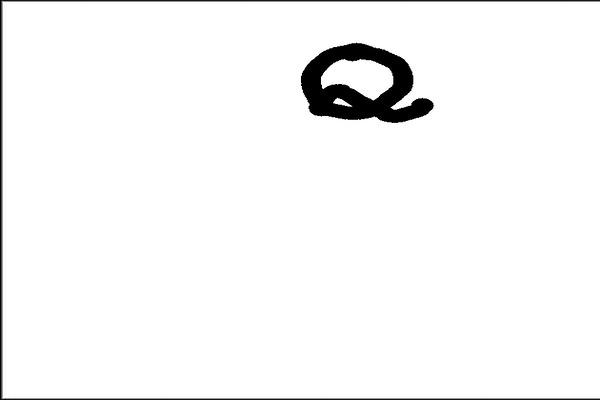Q: (297, 38, 436, 137)
